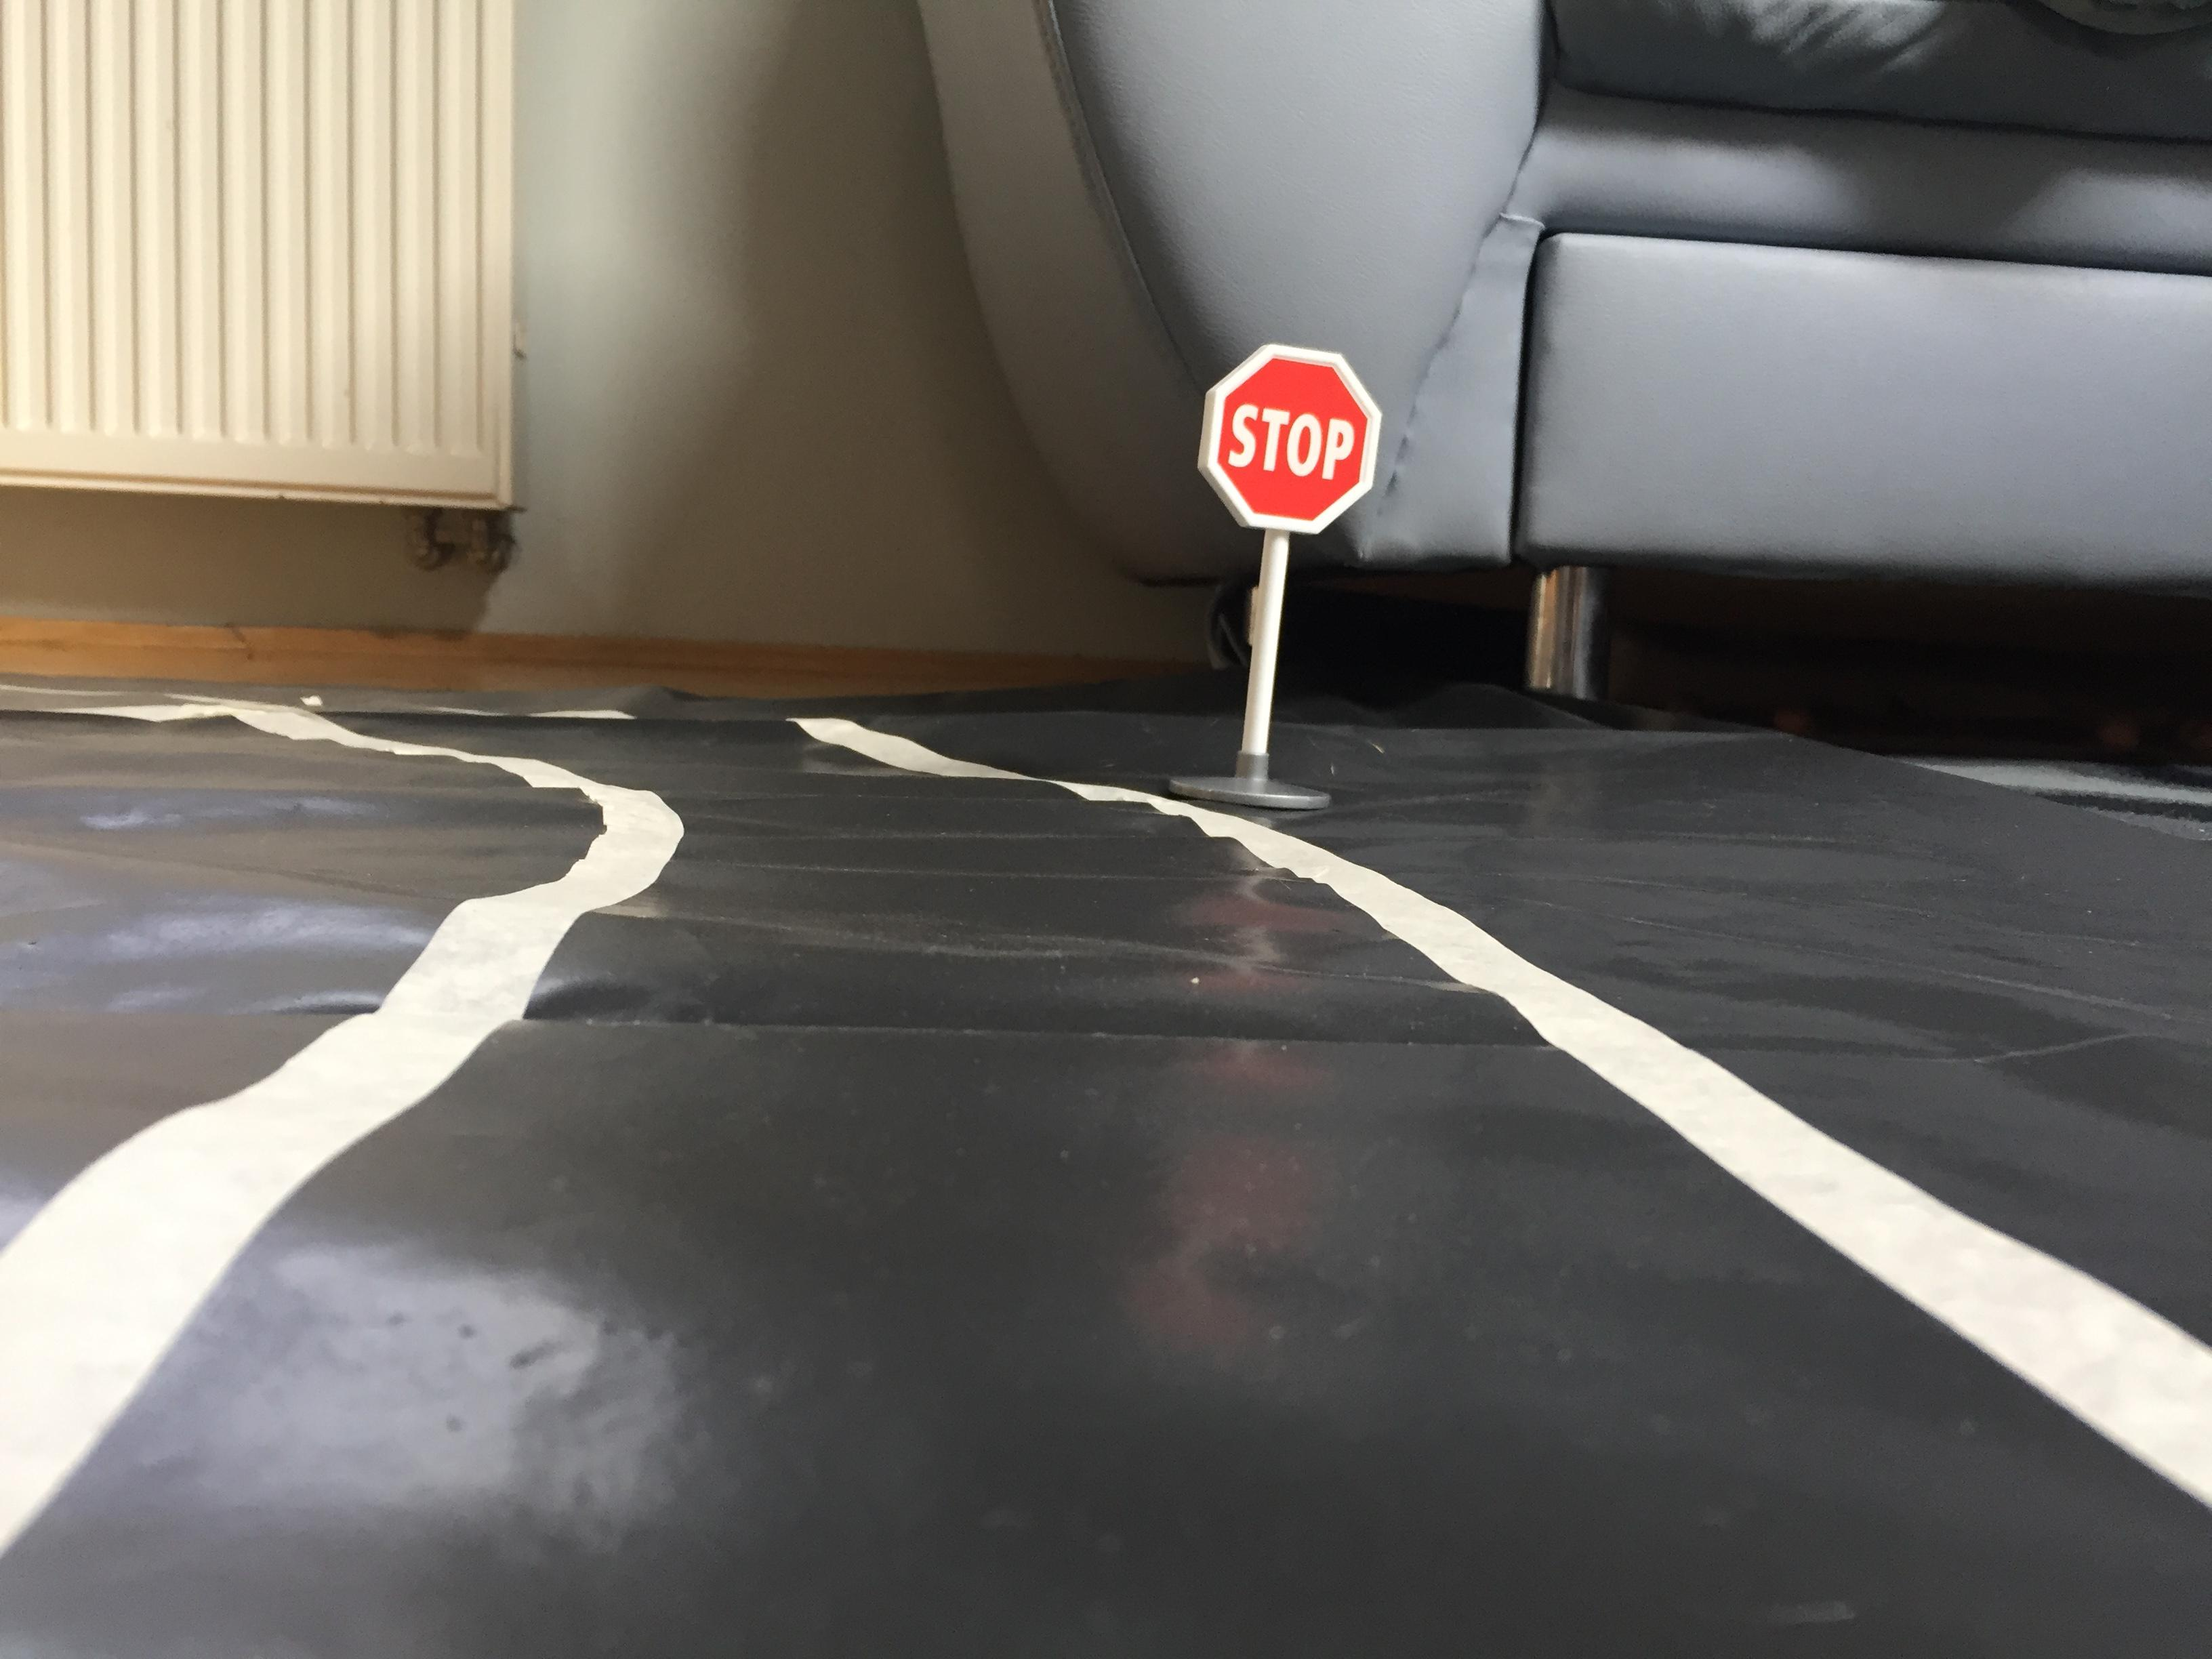stop: (1184, 335, 1393, 540)
